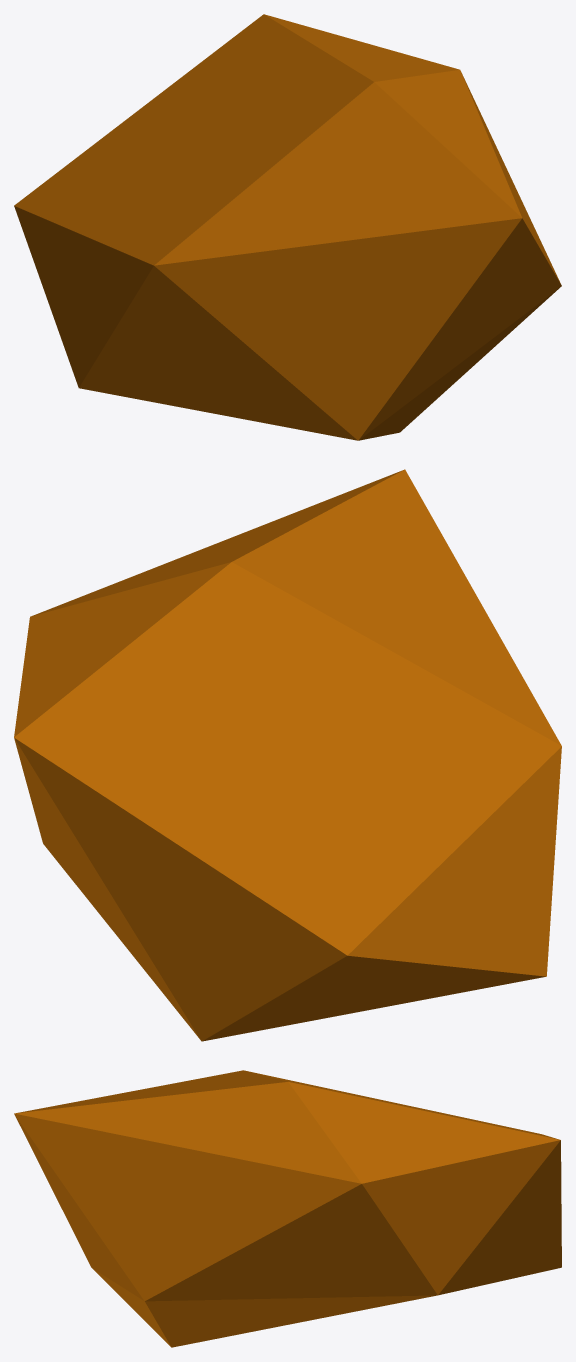
The model's file is Rock2.fbx.
The picture shows the model from 3 angles, top to bottom: view 1: azimuth 30°, elevation 25°; view 2: azimuth 150°, elevation 25°; view 3: azimuth 270°, elevation 25°; orthographic projection. The views are drawn at different scales.
Visible parts, largest first — view 1: Icosphere; view 2: Icosphere; view 3: Icosphere.
Part boxes in pixels (x1,y1,x2,y2): Icosphere: (14,14,561,440); Icosphere: (14,469,561,1041); Icosphere: (14,1070,561,1347).
Bounding box in the file's own units: 123 × 86.98 × 153.
